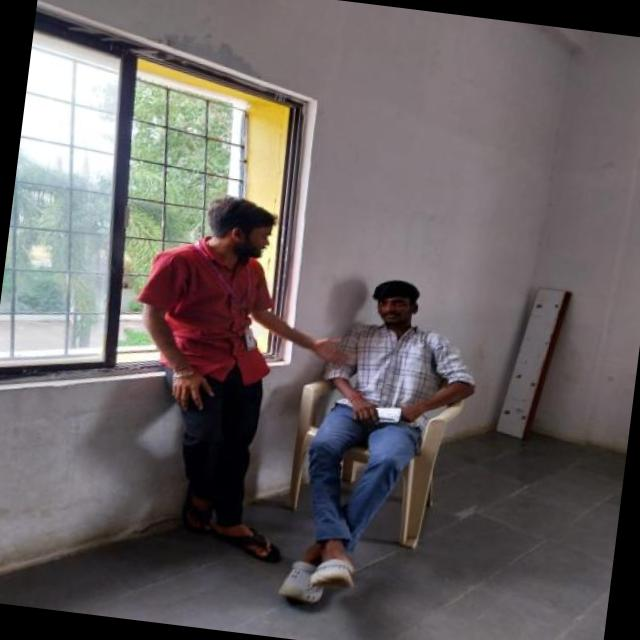id_card: (192, 240, 268, 350)
